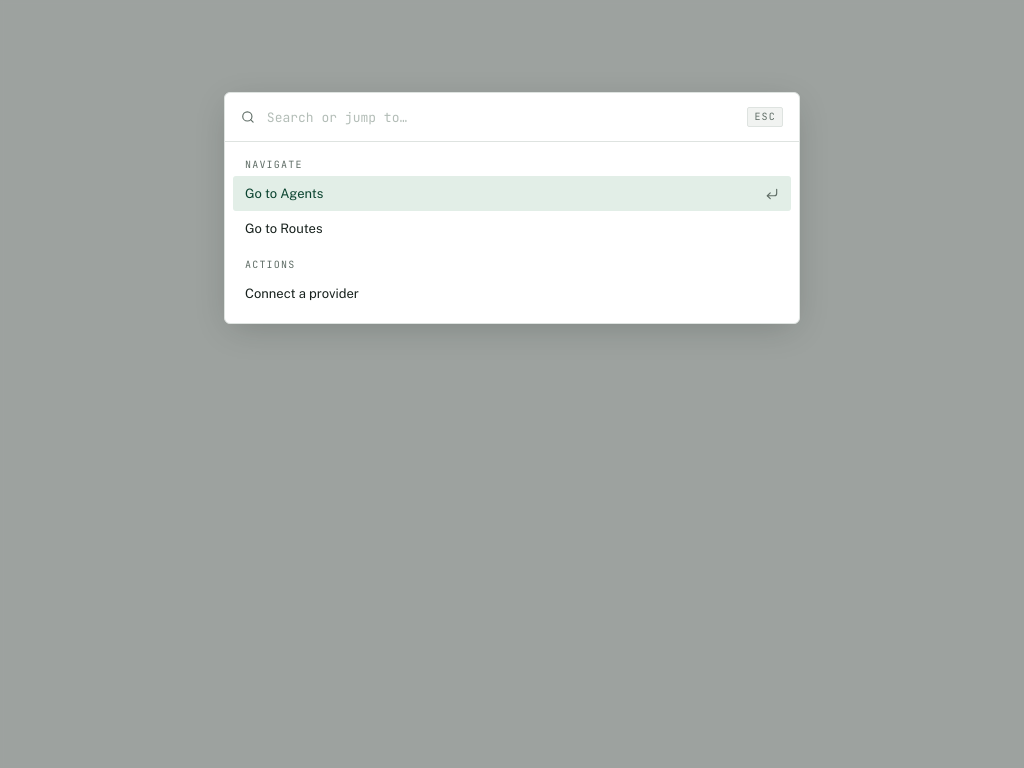
it: CommandPalette — keyboard-first flow › fuzzy-filters (subsequence) and groups results
The width and height of the screenshot is (1024, 768).
"gtr" is a subsequence of "Go To Routes".
Step 1. Type "gtr" into the dropdown named "Command" → (501, 117), box top-left (267, 93), bottom-right (735, 141)
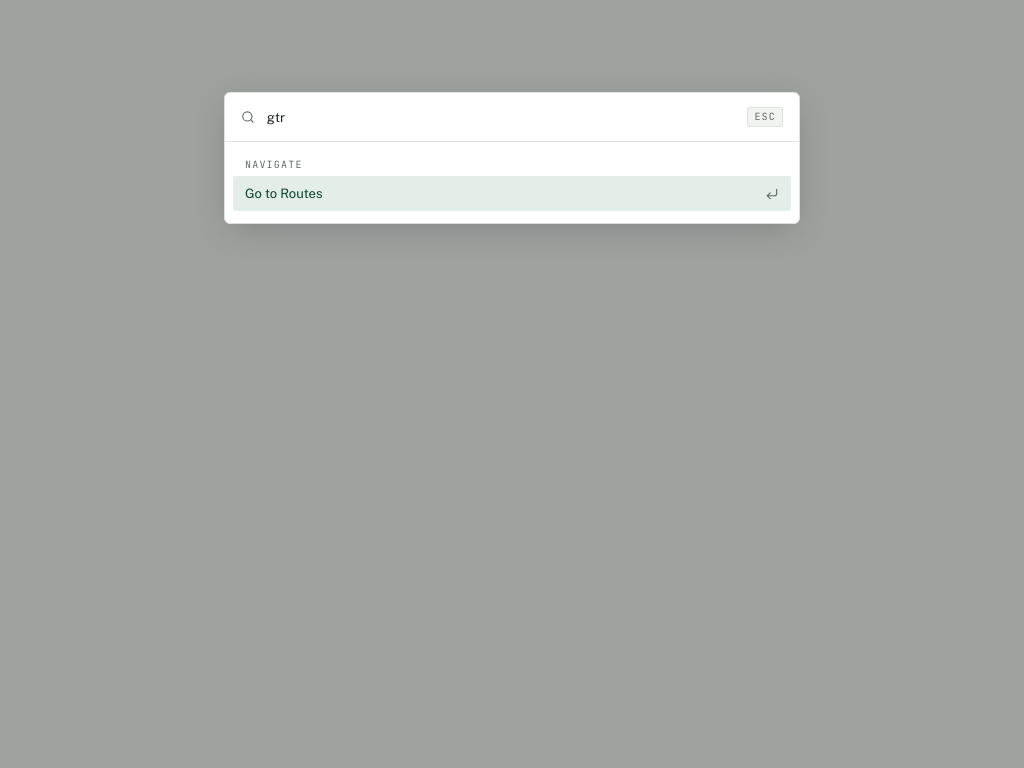
Check: the text "Go to Routes" is shown, box top-left (245, 186), bottom-right (322, 201)
Check: the option "Connect a provider" is gone
